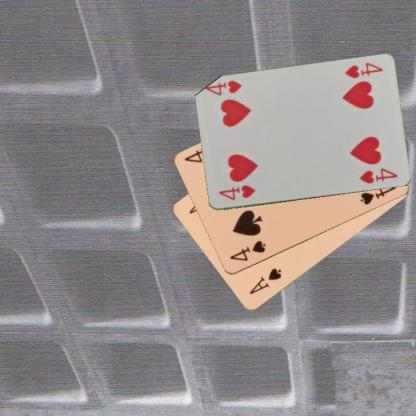4h: (342, 59, 384, 80), (216, 183, 256, 202)
4s: (227, 238, 267, 263)
As: (246, 266, 283, 296)
